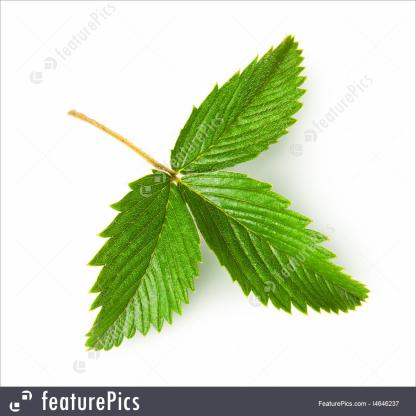strawberry leaf: (184, 172, 377, 321), (72, 164, 213, 352), (166, 24, 312, 176)
